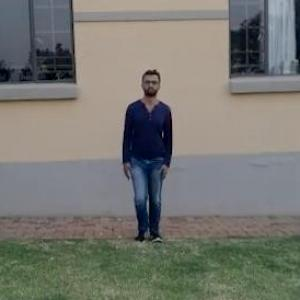follow: (119, 67, 174, 243)
